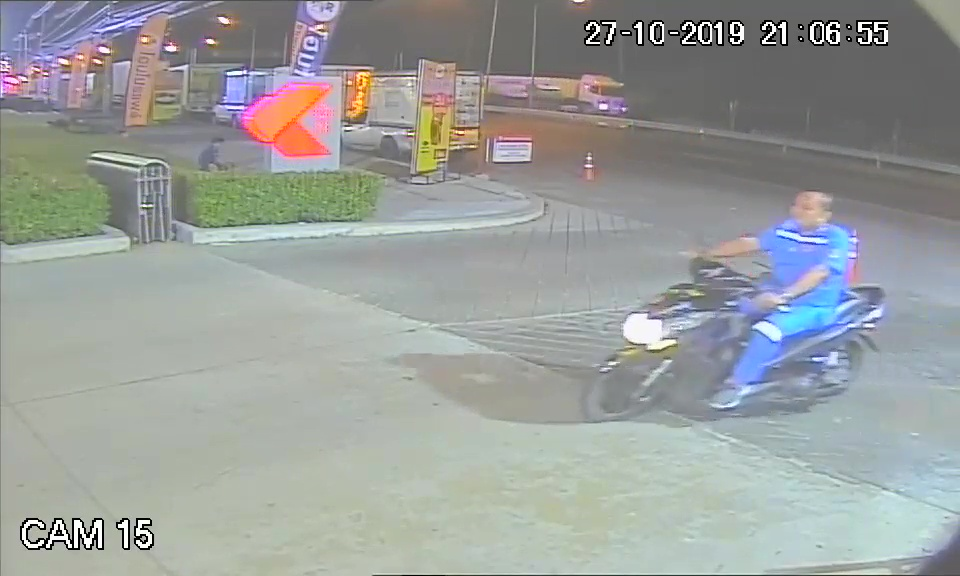motorcycle: (579, 256, 887, 431)
